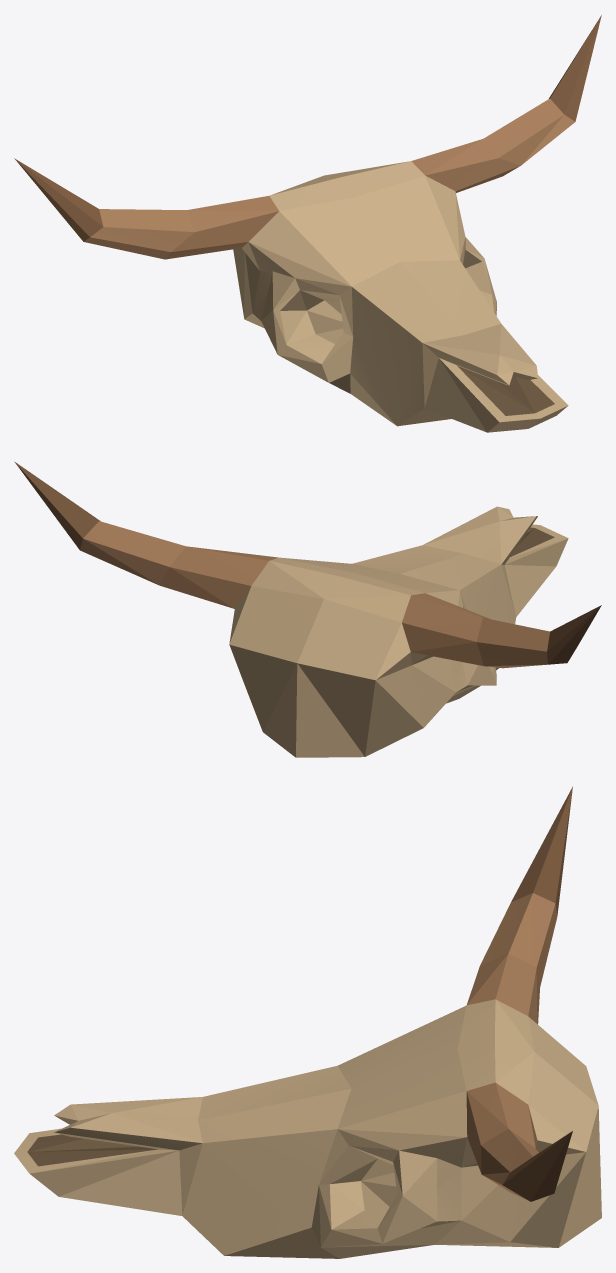
Rendered from Craneo_Toro.glb.
3 renders of one model, top to bottom at view 1: azimuth 30°, elevation 25°; view 2: azimuth 150°, elevation 25°; view 3: azimuth 270°, elevation 25°, orthographic. The views are drawn at different scales.
Visible parts, largest first — view 1: SM_Prop_Cow_Skull_01_1; view 2: SM_Prop_Cow_Skull_01_1; view 3: SM_Prop_Cow_Skull_01_1.
Boxes of the visible parts, x1=… form: SM_Prop_Cow_Skull_01_1: x1=14, y1=15, x2=601, y2=432; SM_Prop_Cow_Skull_01_1: x1=14, y1=461, x2=601, y2=757; SM_Prop_Cow_Skull_01_1: x1=14, y1=786, x2=601, y2=1258.
Bounding box in the file's own units: 1.15 × 0.4181 × 0.8281.
1 material, 1 textured.
